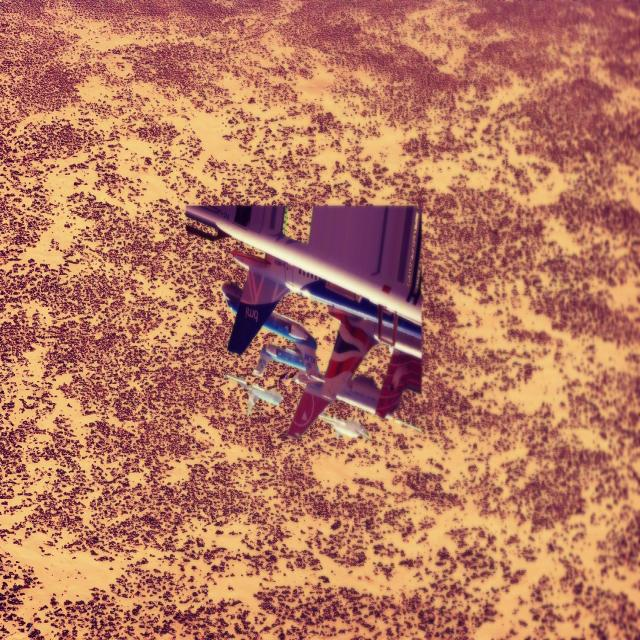airplane: (185, 200, 424, 442), (224, 372, 283, 418)
